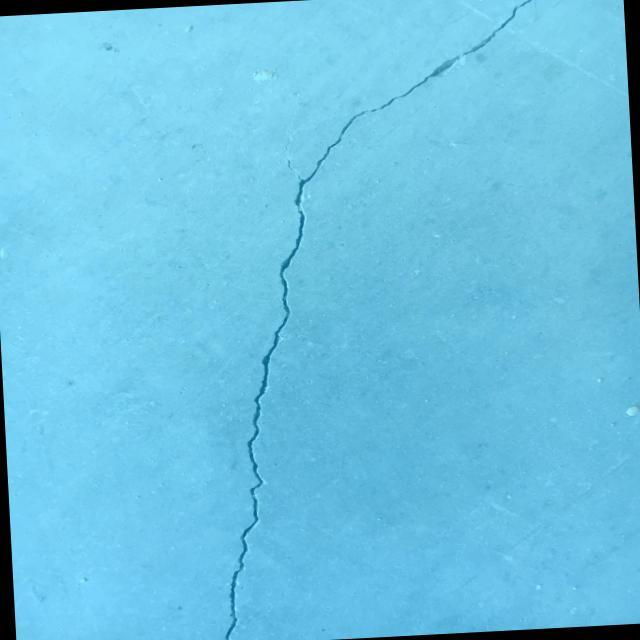crack: (190, 0, 577, 640)
